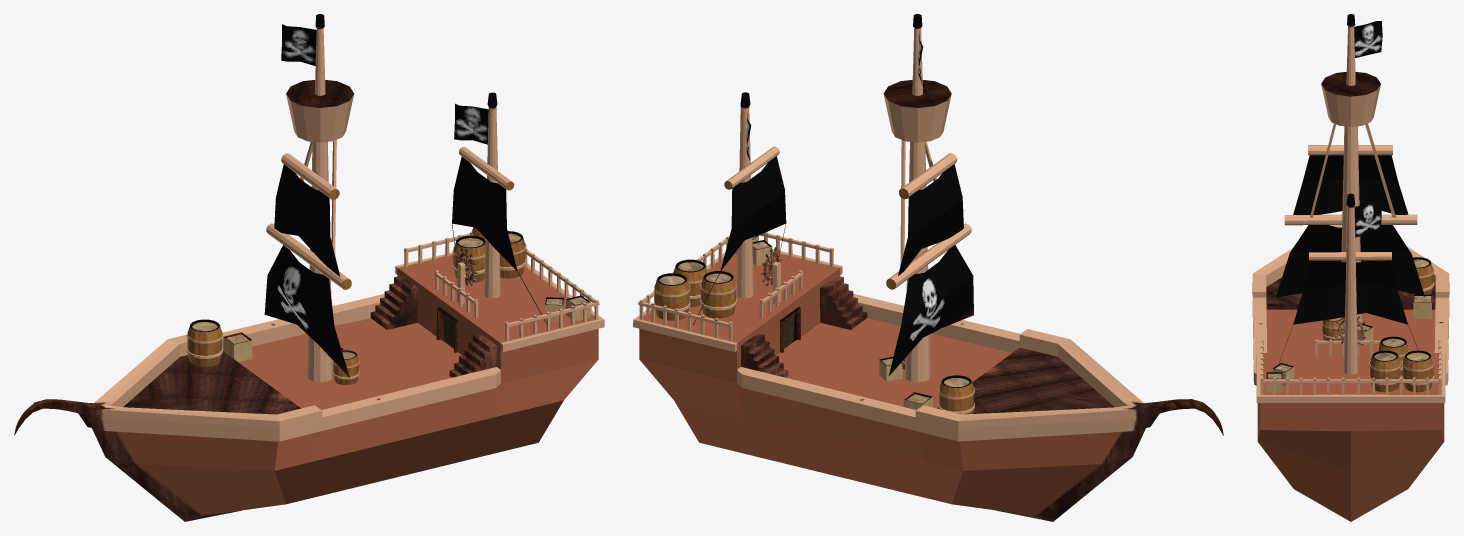
File: Pirate Ship.fbx
3 views of the same model, side by side, from view 1: azimuth 30°, elevation 25°; view 2: azimuth 150°, elevation 25°; view 3: azimuth 270°, elevation 25° (orthographic). The views are drawn at different scales.
Parts seen in each view (by area): view 1: Cube, Cube.001; view 2: Cube, Cube.001; view 3: Cube, Cube.001.
Part boxes in pixels (box(x1,y1,x2,y2)): Cube: box(14, 92, 604, 521); Cube.001: box(264, 14, 354, 382); Cube: box(633, 92, 1223, 521); Cube.001: box(883, 14, 973, 382); Cube: box(1252, 193, 1449, 521); Cube.001: box(1275, 14, 1424, 324).
Bounding box in the file's own units: 969 × 805 × 344.
1 material, 1 textured.
